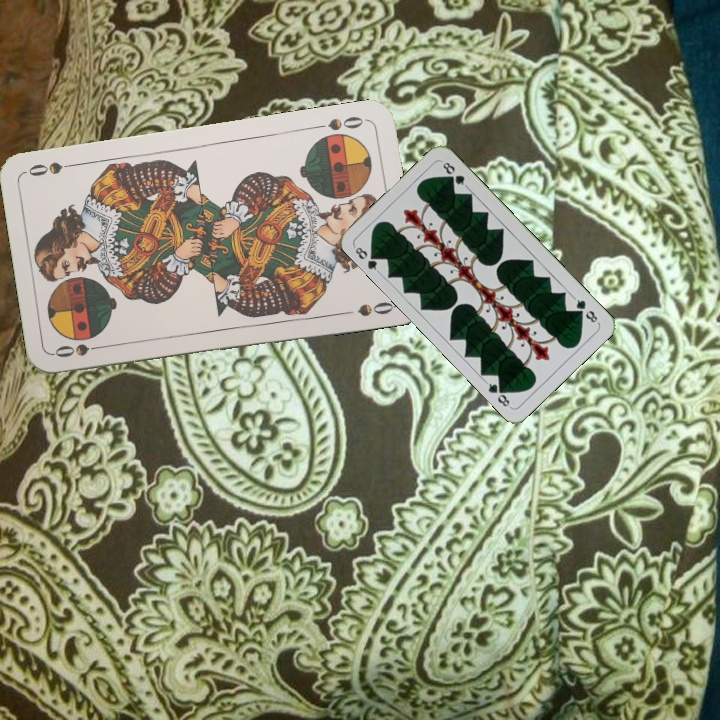G8: (569, 293, 601, 326), (350, 243, 382, 275)
SO: (310, 112, 369, 133), (50, 340, 110, 360)
